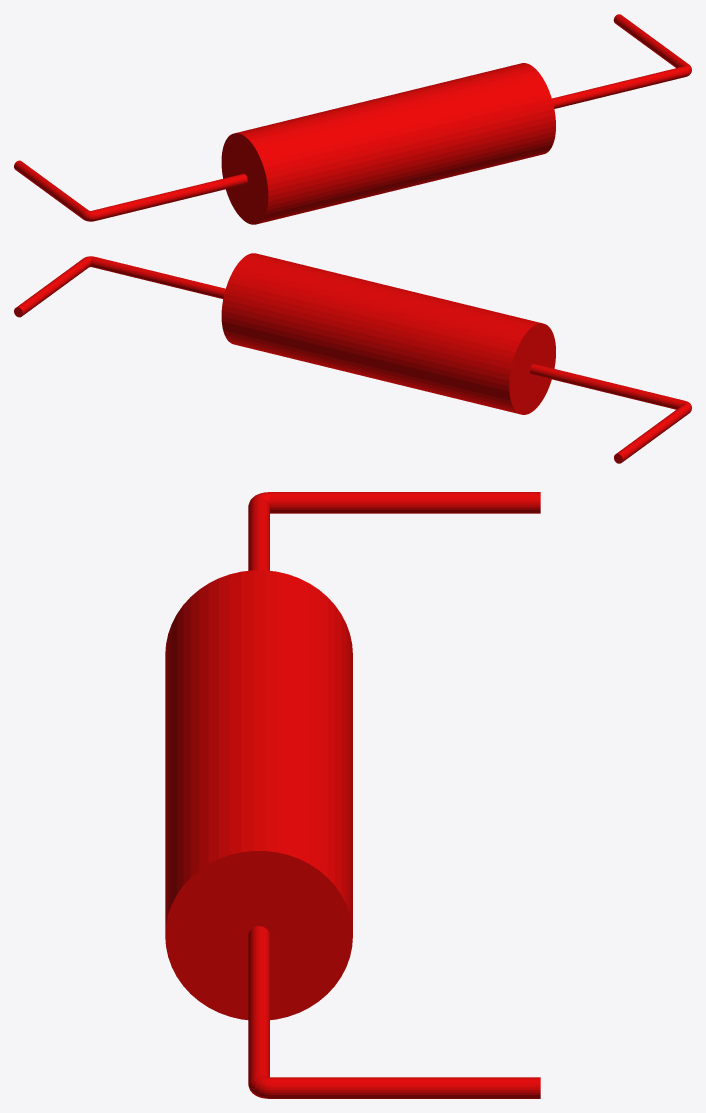
Rendered from Resistor2.dae.
The picture shows the model from 3 angles, top to bottom: view 1: azimuth 30°, elevation 25°; view 2: azimuth 150°, elevation 25°; view 3: azimuth 270°, elevation 25°; orthographic projection. The views are drawn at different scales.
Visible parts, largest first — view 1: node_id3; view 2: node_id3; view 3: node_id3.
Boxes of the visible parts, x1=… form: node_id3: x1=14, y1=14, x2=691, y2=224; node_id3: x1=14, y1=253, x2=691, y2=463; node_id3: x1=165, y1=492, x2=540, y2=1098.
Bounding box in the file's own units: 10 × 1.33 × 2.67.
